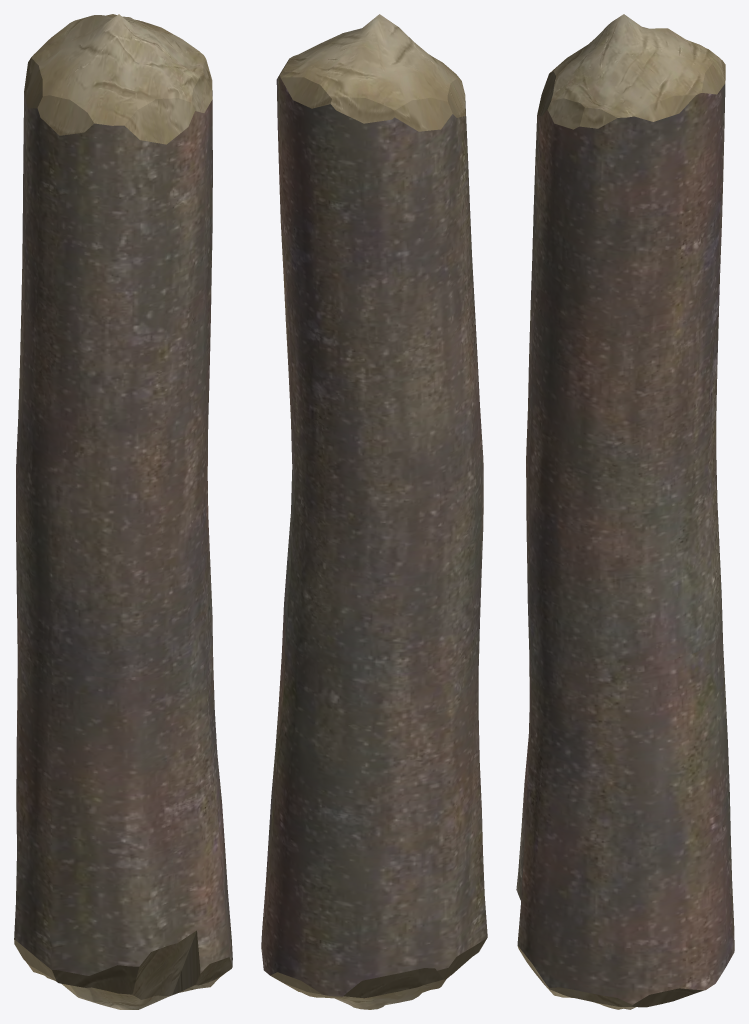
The picture shows the model from 3 angles, left to right: view 1: azimuth 30°, elevation 25°; view 2: azimuth 150°, elevation 25°; view 3: azimuth 270°, elevation 25°; orthographic projection.
Visible parts, largest first — view 1: SM_BM_Ash_Tree_02_quarter_01_LOD0; view 2: SM_BM_Ash_Tree_02_quarter_01_LOD0; view 3: SM_BM_Ash_Tree_02_quarter_01_LOD0.
Part boxes in pixels (box(x1,y1,x2,y2)): SM_BM_Ash_Tree_02_quarter_01_LOD0: box(14, 14, 232, 1009); SM_BM_Ash_Tree_02_quarter_01_LOD0: box(261, 14, 487, 1009); SM_BM_Ash_Tree_02_quarter_01_LOD0: box(516, 14, 734, 1009).
Size of the model in its own units: 0.4565 by 2.26 by 0.4532.
Materials: 1 (1 with a texture image).
